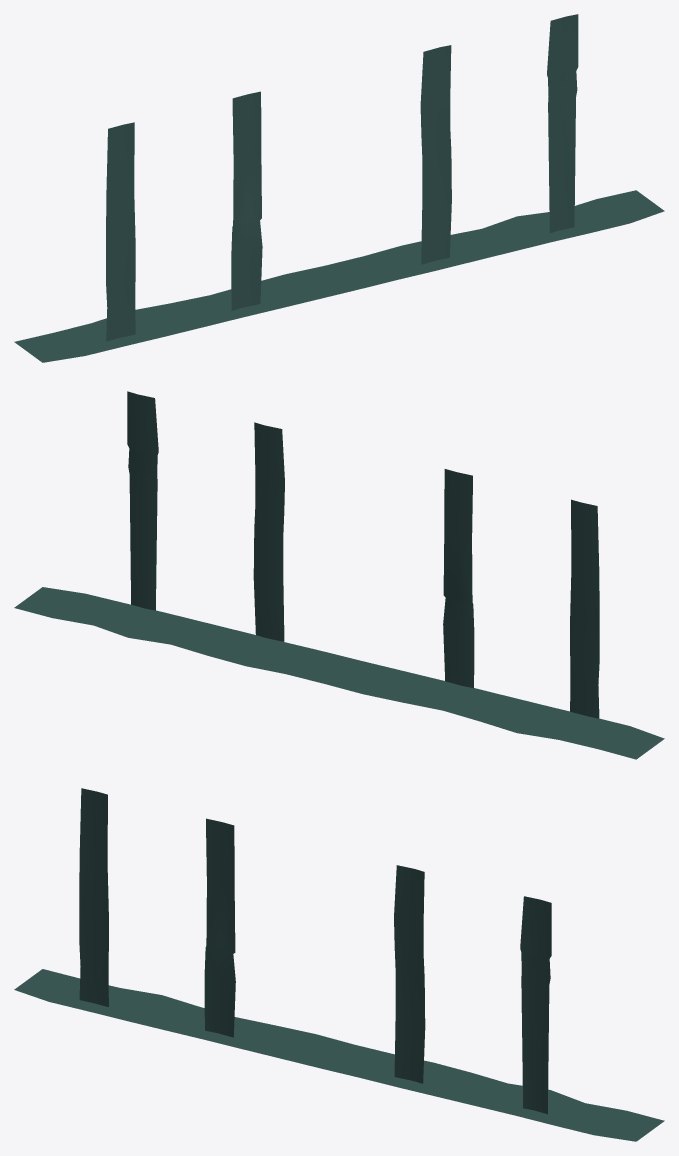
File: water_edges.glb
3 renders of one model, top to bottom at view 1: azimuth 30°, elevation 25°; view 2: azimuth 150°, elevation 25°; view 3: azimuth 330°, elevation 25°, orthographic.
Visible parts, largest first — view 1: SpillSheets, Tailrace; view 2: SpillSheets, Tailrace; view 3: SpillSheets, Tailrace.
Boxes of the visible parts, x1,y1,x2,y2 form: SpillSheets: (106,14,578,341); Tailrace: (14,190,664,362); SpillSheets: (127,391,599,718); Tailrace: (14,587,664,759); SpillSheets: (79,788,551,1114); Tailrace: (14,969,664,1141).
Bounding box in the file's own units: 276 × 92.09 × 27.19.
